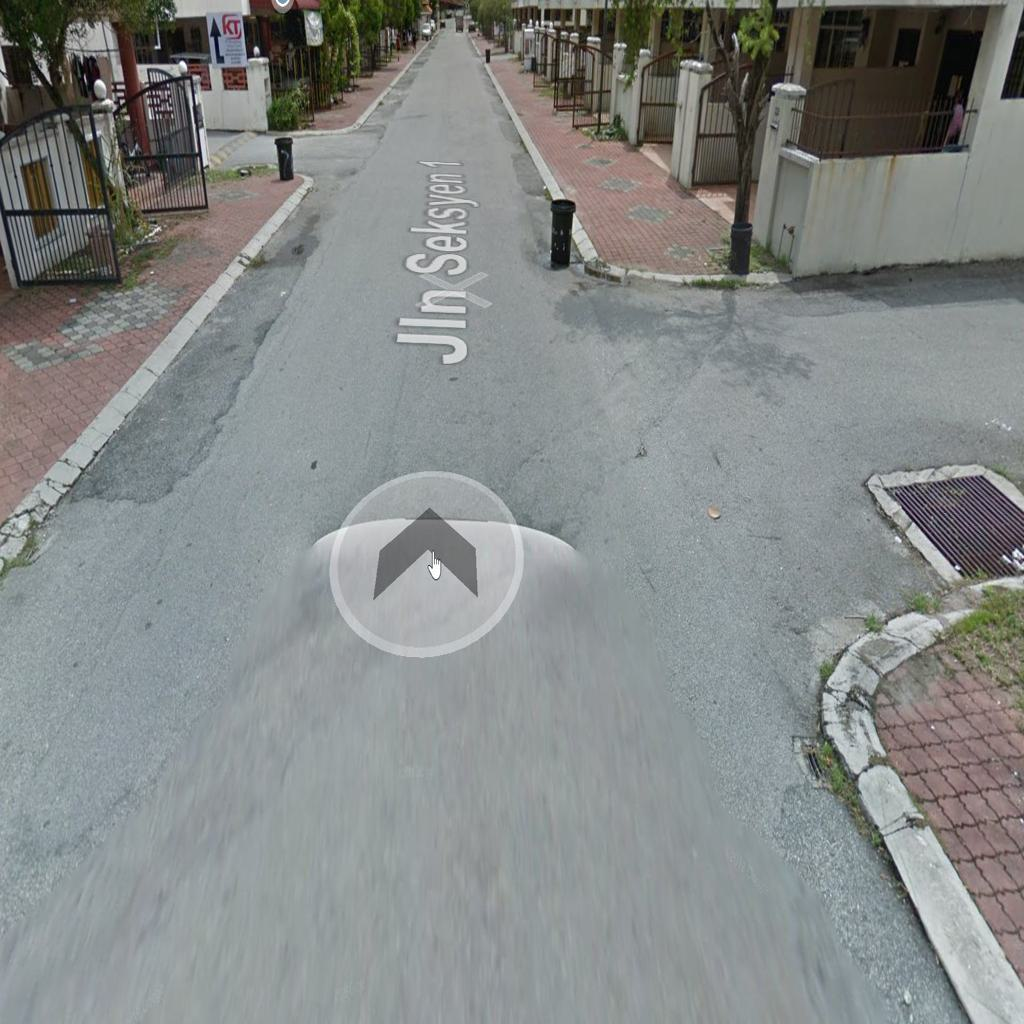Junction: (527, 219, 1020, 720), (191, 107, 391, 215)
